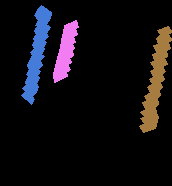parkingspot: (139, 26, 172, 132), (21, 5, 51, 104), (53, 20, 78, 82)
